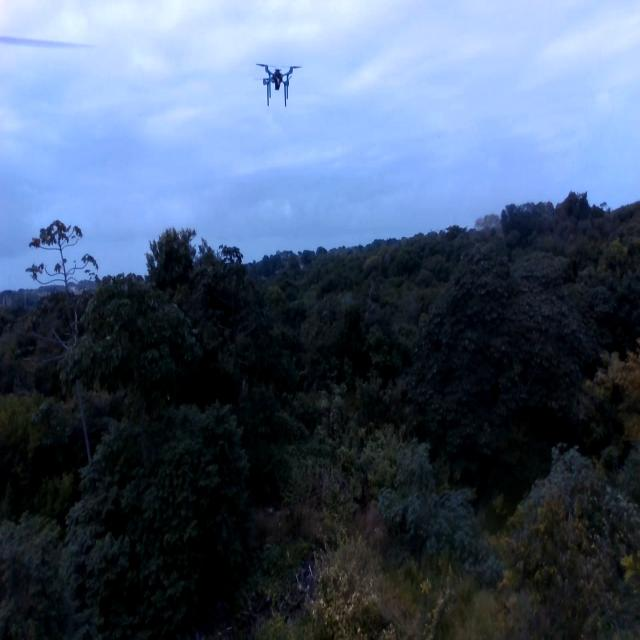-uav-: (248, 54, 308, 118)
